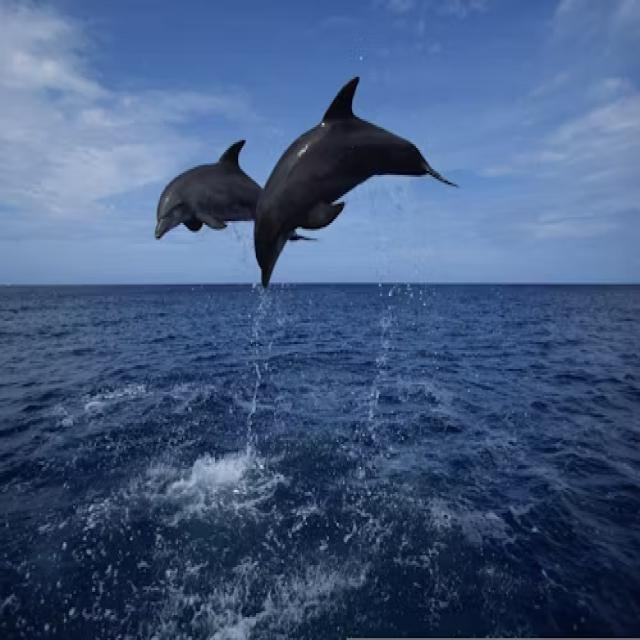penguin: (253, 77, 453, 284), (155, 140, 260, 236)
